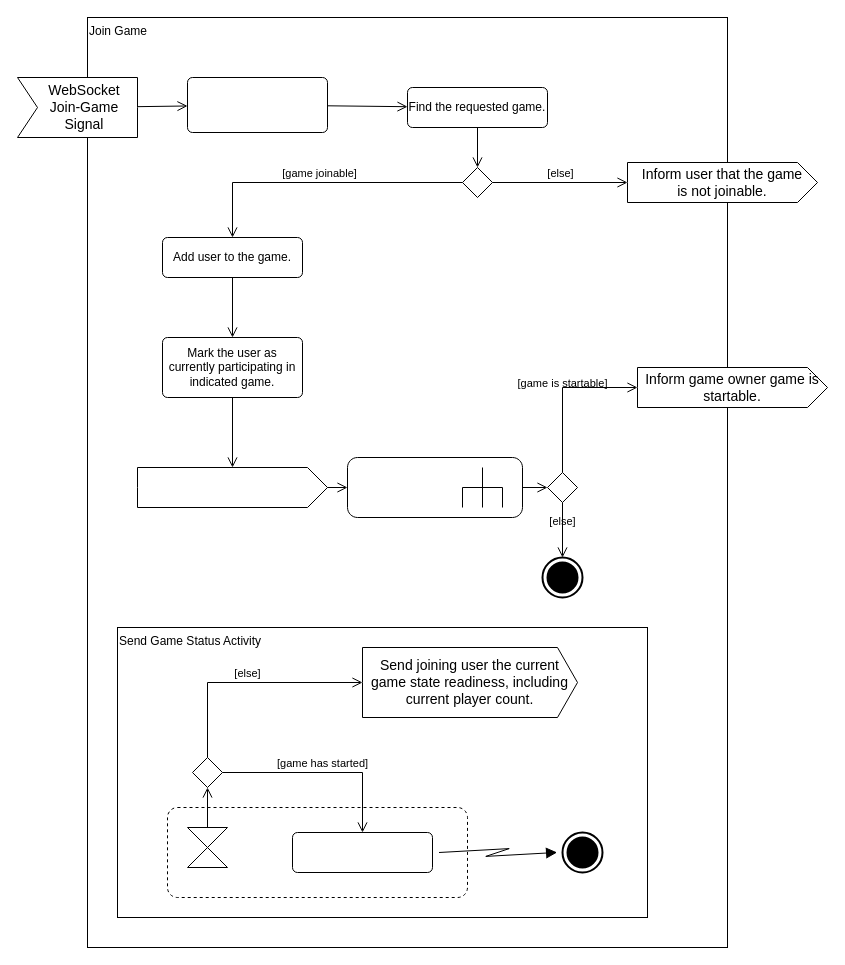
Image size: 845x965. Some labels were removed from this diagram. The shapes that lost their labels are listed below. From the top down, each one's centre as x and y in pixels, then its label:
point (257, 104): Determine User ID associated with the signal socket.
point (232, 487): Acknowledge successful game join.
point (434, 487): Send Game Status
point (207, 847): 5 sec
point (362, 852): Stop sending updates about game state.
